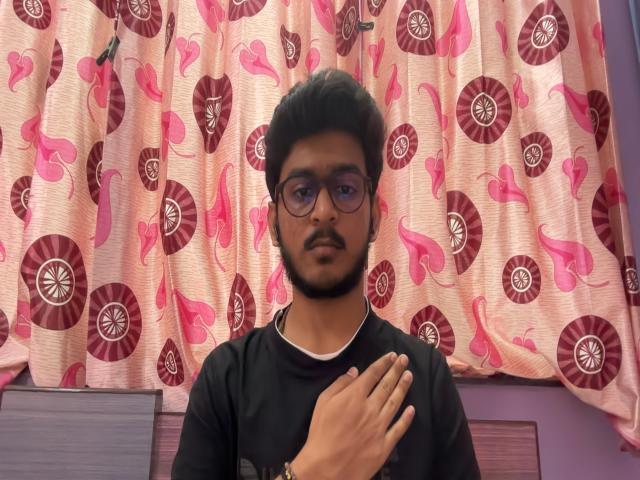Please: (286, 346, 445, 480)
